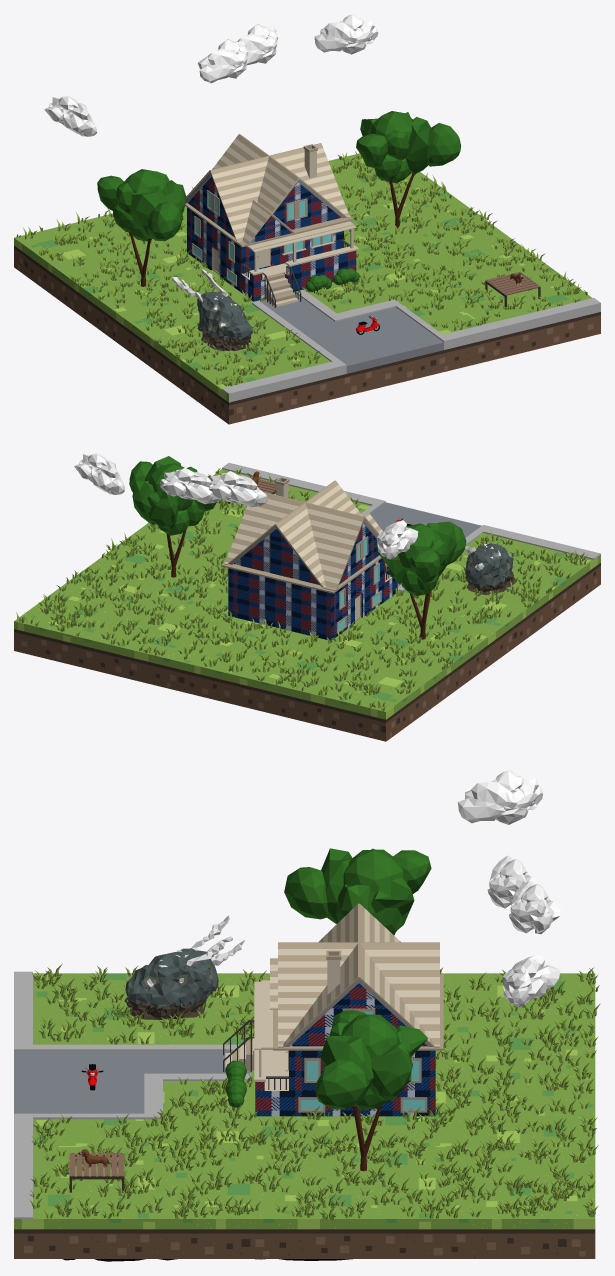
3 views of the same model, one above another, from view 1: azimuth 30°, elevation 25°; view 2: azimuth 150°, elevation 25°; view 3: azimuth 270°, elevation 25° (orthographic). The views are drawn at different scales.
Visible parts, largest first — view 1: Cube.006, Cube.171, Circle.012_Grass_0.192, Cube.007, tree, tree.001, OBJRANDOM_METEORITE, Cube.009; view 2: Cube.006, Cube.171, Circle.012_Grass_0.192, Cube.007, tree.001, tree, OBJRANDOM_METEORITE; view 3: Cube.006, Circle.012_Grass_0.192, Cube.171, tree, Cube.007, tree.001, OBJRANDOM_METEORITE, Cube.009.
Boxes of the visible parts, bbox=[...] form: Cube.006: bbox=[14, 153, 600, 424]; Cube.171: bbox=[185, 134, 358, 307]; Circle.012_Grass_0.192: bbox=[16, 151, 587, 386]; Cube.007: bbox=[44, 14, 378, 136]; tree: bbox=[356, 111, 460, 228]; tree.001: bbox=[97, 169, 186, 286]; OBJRANDOM_METEORITE: bbox=[172, 269, 252, 351]; Cube.009: bbox=[485, 272, 540, 306]; Cube.006: bbox=[14, 463, 600, 741]; Cube.171: bbox=[221, 477, 397, 640]; Circle.012_Grass_0.192: bbox=[16, 468, 587, 711]; Cube.007: bbox=[74, 453, 418, 559]; tree.001: bbox=[374, 521, 466, 639]; tree: bbox=[129, 456, 216, 577]; OBJRANDOM_METEORITE: bbox=[464, 543, 515, 594]; Cube.006: bbox=[14, 971, 595, 1258]; Circle.012_Grass_0.192: bbox=[29, 963, 600, 1220]; Cube.171: bbox=[223, 903, 443, 1116]; tree: bbox=[314, 1010, 427, 1171]; Cube.007: bbox=[457, 770, 560, 1007]; tree.001: bbox=[284, 848, 431, 935]; OBJRANDOM_METEORITE: bbox=[124, 915, 244, 1019]; Cube.009: bbox=[69, 1152, 124, 1192].
Bounding box in the file's own units: 4071 × 2149 × 4040.
32 materials, 4 textured.
